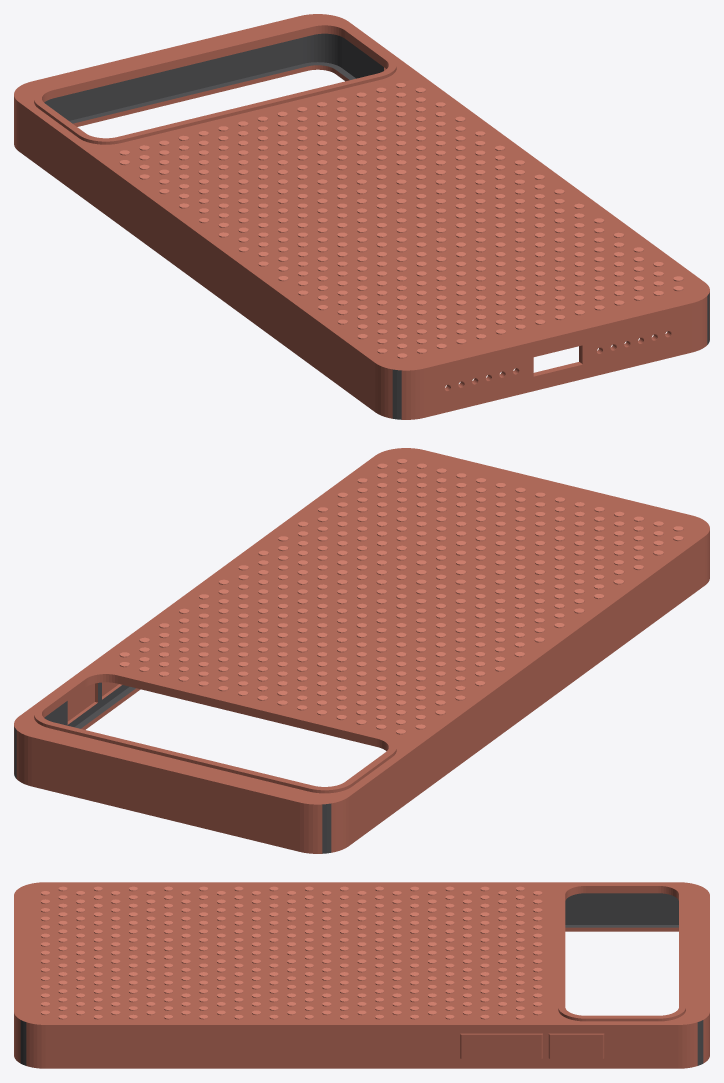
Rendered from kilif-bar-nokta-mercan.glb.
The picture shows the model from 3 angles, top to bottom: view 1: azimuth 30°, elevation 25°; view 2: azimuth 150°, elevation 25°; view 3: azimuth 270°, elevation 25°; orthographic projection. The views are drawn at different scales.
Visible parts, largest first — view 1: Kilif; view 2: Kilif; view 3: Kilif.
Boxes of the visible parts, x1,y1,x2,y2 form: Kilif: [14, 14, 709, 419]; Kilif: [14, 448, 709, 853]; Kilif: [14, 882, 709, 1068].
Bounding box in the file's own units: 0.0774 × 0.0117 × 0.1584.
